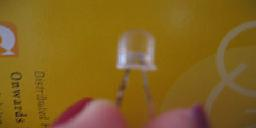LED: (110, 30, 160, 115)
